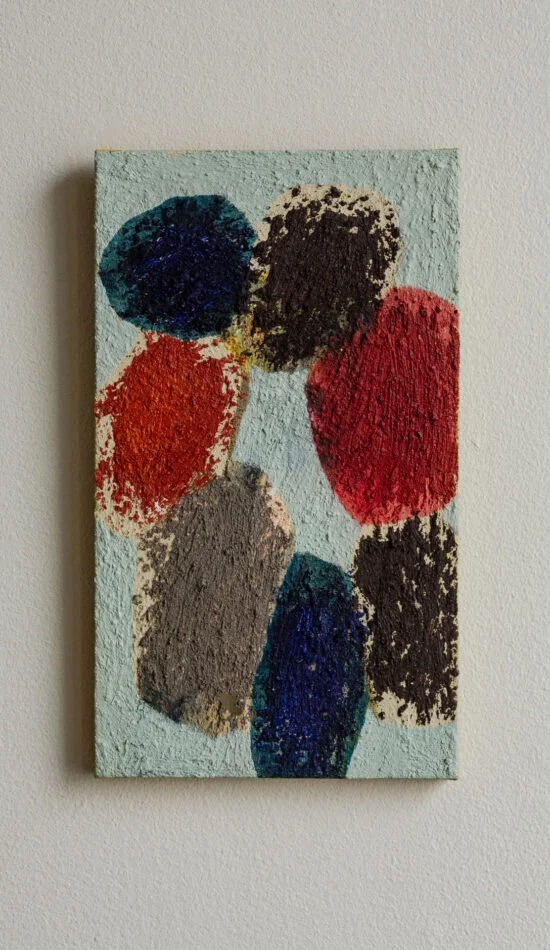painting: (90, 149, 462, 780)
